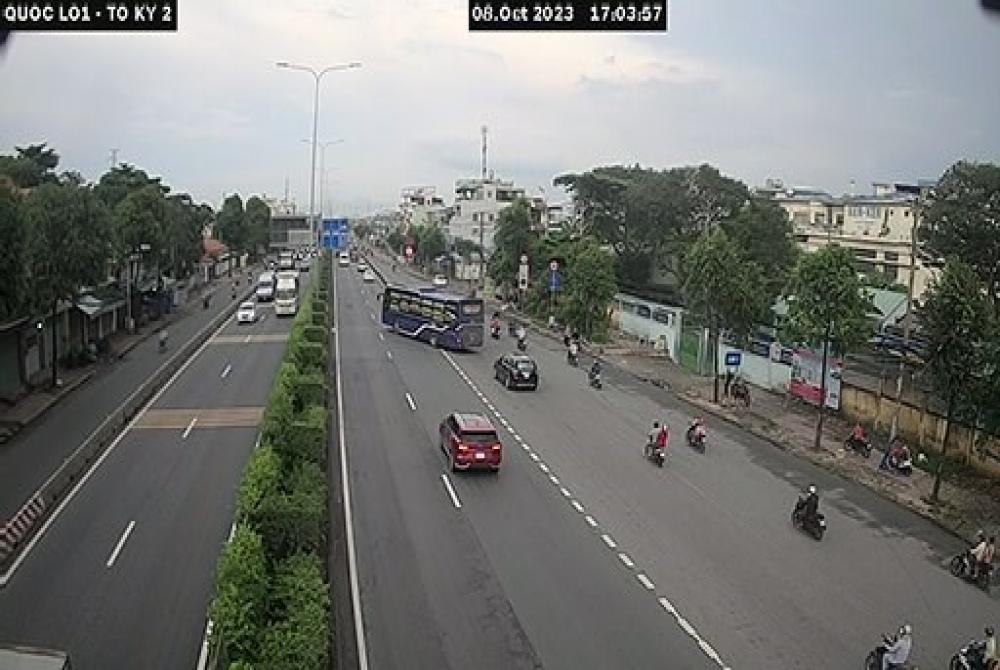bus: (364, 271, 496, 369)
car: (428, 388, 536, 516), (496, 346, 550, 406), (234, 299, 264, 340)
truck: (271, 268, 312, 334)
